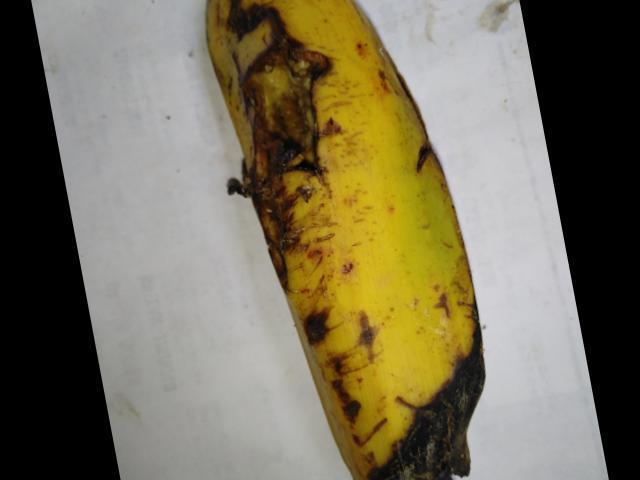ripe: (191, 0, 484, 324)
rotten: (190, 0, 379, 239), (312, 307, 506, 479)
